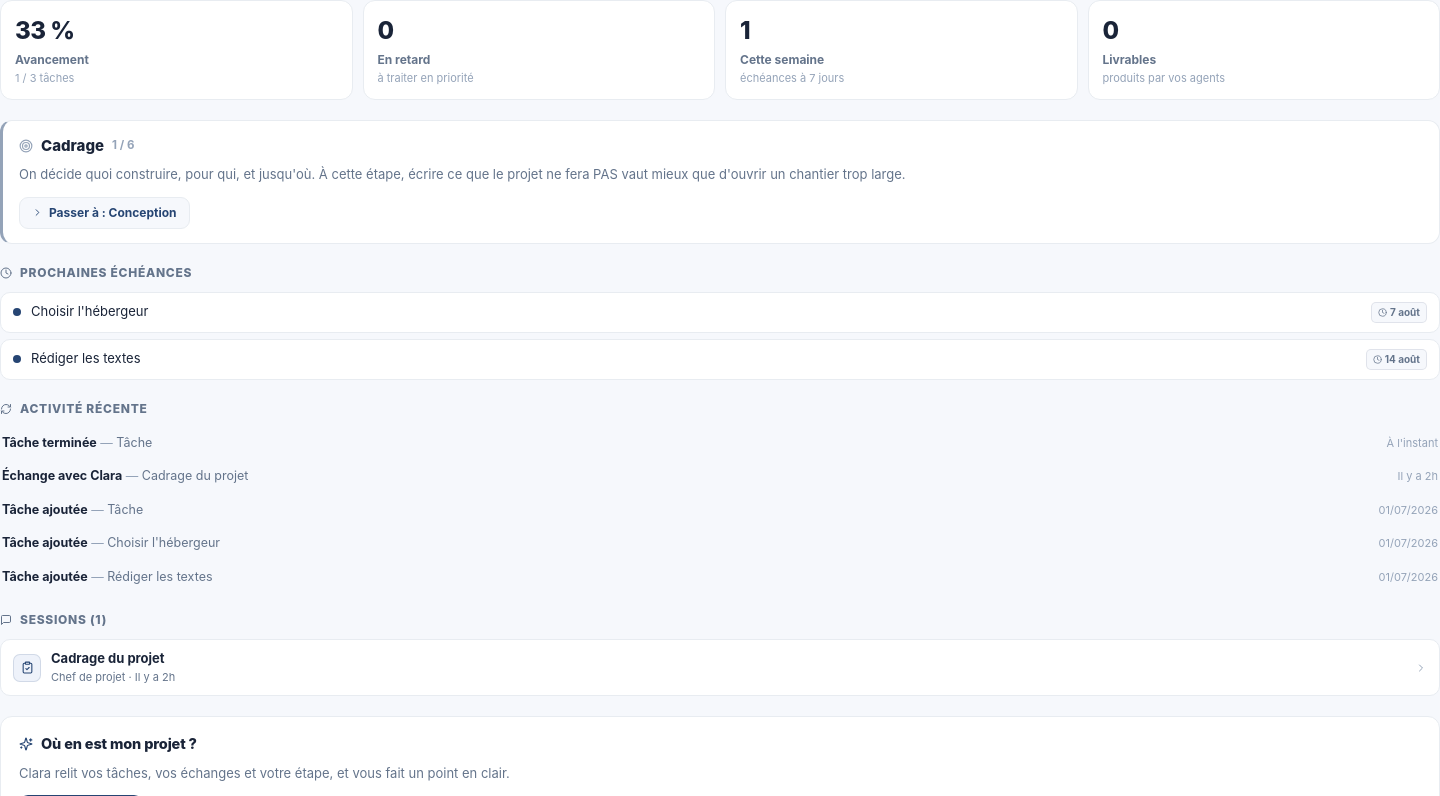
ProjectOverviewTab — prochaines échéances › ouvre le détail de la tâche au clic, sans quitter le cockpit
Step 1. Click the text "Choisir l'hébergeur" below "Prochaines échéances" → (90, 311), box [31,303,148,319]
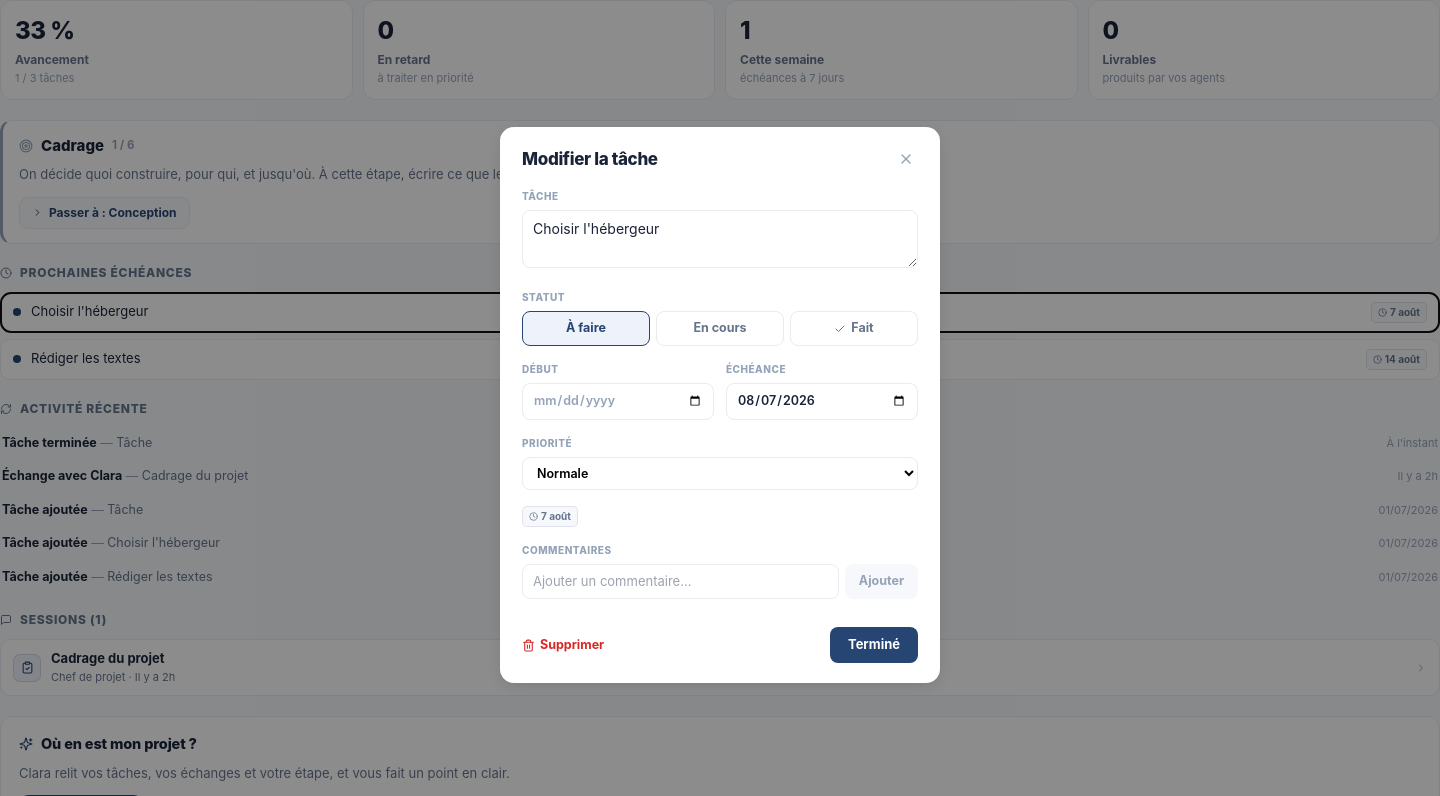
Now the heading "Modifier la tâche" is shown, box [522,147,658,173]
